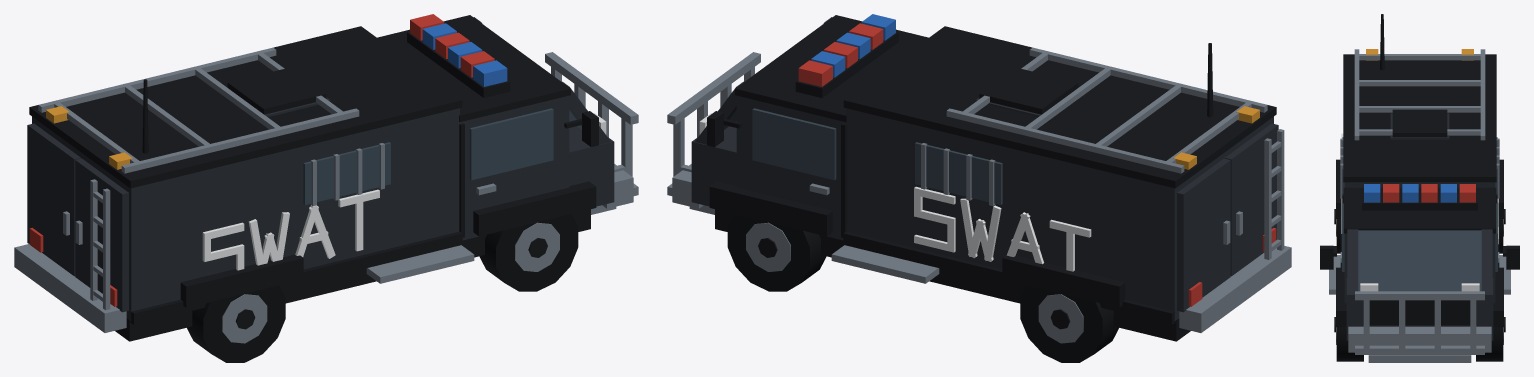
The model's file is fourgonswat.glb.
3 renders of one model, left to right at view 1: azimuth 30°, elevation 25°; view 2: azimuth 150°, elevation 25°; view 3: azimuth 270°, elevation 25°, orthographic. The views are drawn at different scales.
Visible parts, largest first — view 1: cargo_body, cargo_roof_cap, cab_roof_cap, rear_door_R, cab_body, rear_door_L, cab_glass_L, tire_front_L, tire_rear_L, rear_bumper, arch_front_L, rocker_L (+24 smaller); view 2: cargo_body, cargo_roof_cap, cab_roof_cap, rear_door_R, cab_body, rear_door_L, cab_glass_R, tire_front_R, tire_rear_R, rear_bumper, arch_front_R, rocker_R (+24 smaller); view 3: cargo_roof_cap, windshield, cab_roof_cap, bumper, grille, roof_hatch, hood, pushbar_frame_top, lightbar_base, pushbar_frame_bottom, roof_rack_cross_1, skid_plate (+33 smaller).
Part boxes in pixels (x1,y1,x2,y2): cargo_body: (32,108,459,320); cargo_roof_cap: (29,26,462,188); cab_roof_cap: (377,15,570,122); rear_door_R: (27,123,80,276); cab_body: (460,95,569,240); rear_door_L: (75,158,128,312); cab_glass_L: (469,108,553,180); tire_front_L: (479,214,578,291); tire_rear_L: (187,285,285,362); rear_bumper: (14,244,126,332); arch_front_L: (473,181,596,236); rocker_L: (130,231,462,324); cargo_body: (846,108,1273,320); cargo_roof_cap: (843,26,1276,188); cab_roof_cap: (735,15,928,122); rear_door_R: (1177,158,1230,312); cab_body: (736,95,845,240); rear_door_L: (1225,123,1278,276); cab_glass_R: (752,108,836,180); tire_front_R: (727,214,826,291); tire_rear_R: (1020,285,1118,362); rear_bumper: (1179,246,1291,332); arch_front_R: (709,181,832,236); rocker_R: (843,231,1175,324); cargo_roof_cap: (1343,54,1496,182); windshield: (1358,230,1481,291); cab_roof_cap: (1343,187,1496,233); bumper: (1348,326,1491,352); grille: (1369,300,1470,325); roof_hatch: (1392,109,1447,137); hood: (1346,278,1493,340); pushbar_frame_top: (1355,291,1484,300); lightbar_base: (1362,193,1477,210); pushbar_frame_bottom: (1355,345,1484,354); roof_rack_cross_1: (1356,80,1483,86); skid_plate: (1368,355,1471,362).
Size of the model in its own units: 6.85 by 3.39 by 2.92.
